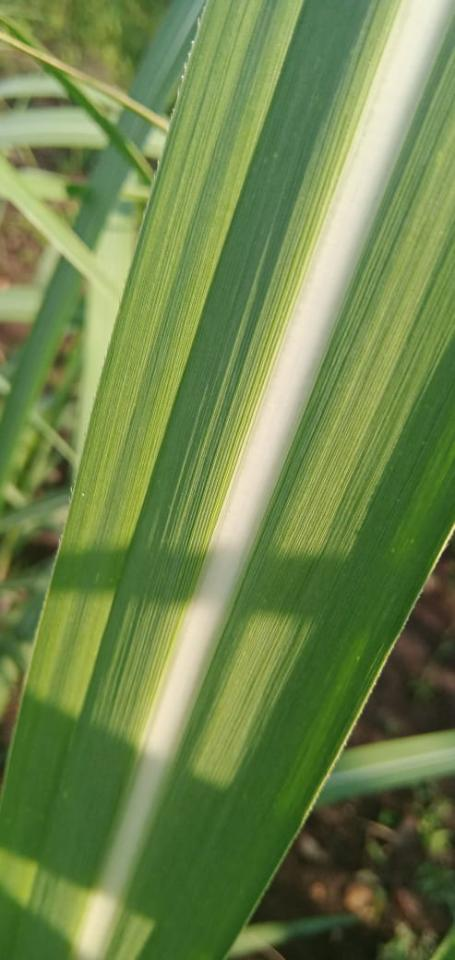Healthy: (0, 0, 405, 959), (102, 0, 454, 959)
